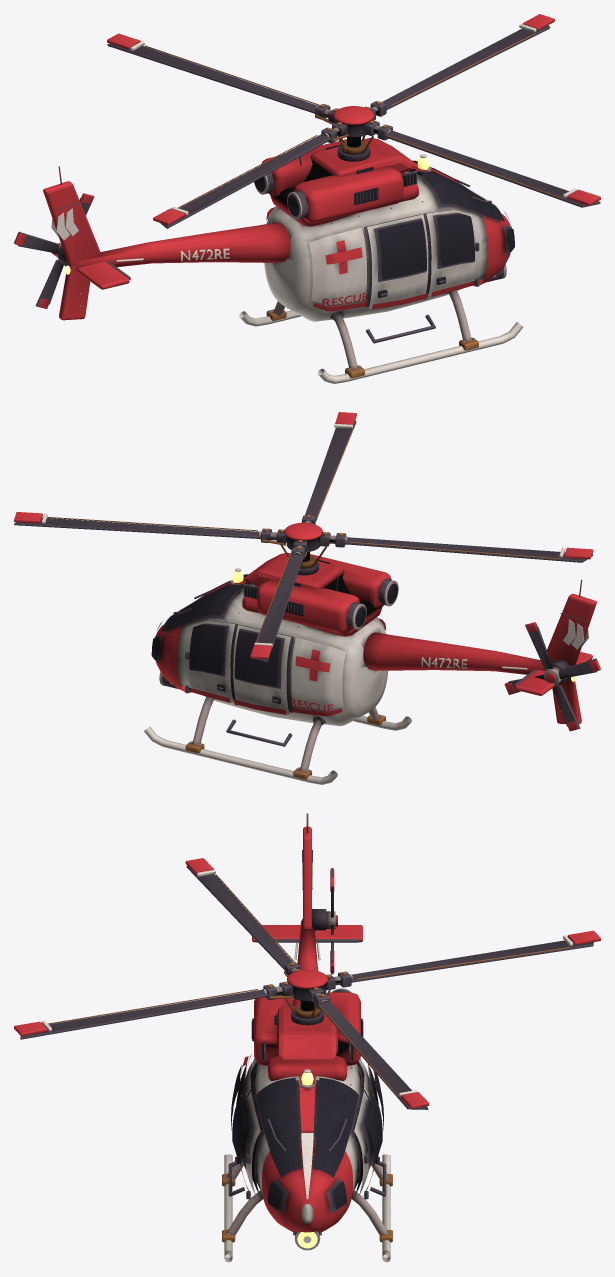
The picture shows the model from 3 angles, top to bottom: view 1: azimuth 30°, elevation 25°; view 2: azimuth 150°, elevation 25°; view 3: azimuth 270°, elevation 25°; orthographic projection. The views are drawn at different scales.
Visible parts, largest first — view 1: body_pal_survivorRed, body_pal_picketWhite, mainRotor_pal_asphalt, body_pal_asphalt, doorRescueR_pal_uiDark, body_pal_uiDark, mainRotor_pal_survivorRed, doorRescueR_pal_picketWhite, doorR_pal_uiDark, body_pal_sidewalk, doorR_pal_picketWhite, mainRotor_pal_woodWarm (+4 smaller); view 2: body_pal_survivorRed, body_pal_picketWhite, mainRotor_pal_asphalt, body_pal_asphalt, body_pal_uiDark, doorRescueL_pal_uiDark, mainRotor_pal_survivorRed, doorRescueL_pal_picketWhite, doorL_pal_uiDark, tailRotor_pal_asphalt, body_pal_sidewalk, doorL_pal_picketWhite (+2 smaller); view 3: body_pal_survivorRed, mainRotor_pal_asphalt, body_pal_uiDark, body_pal_picketWhite, body_pal_asphalt, mainRotor_pal_survivorRed, body_pal_sidewalk, mainRotor_pal_woodWarm, body_pal_woodWarm, doorL_pal_uiDark, doorR_pal_uiDark.
Boxes of the visible parts, x1,y1,x2,y2 form: body_pal_survivorRed: (43,138,510,320); body_pal_picketWhite: (51,169,523,383); mainRotor_pal_asphalt: (107,25,600,228); body_pal_asphalt: (54,145,511,343); doorRescueR_pal_uiDark: (378,220,426,297); body_pal_uiDark: (254,144,514,252); mainRotor_pal_survivorRed: (107,14,600,225); doorRescueR_pal_picketWhite: (367,214,428,308); doorR_pal_uiDark: (436,214,474,284); body_pal_sidewalk: (80,136,475,370); doorR_pal_picketWhite: (426,210,475,296); mainRotor_pal_woodWarm: (145,33,562,208); body_pal_survivorRed: (155,552,596,724); body_pal_picketWhite: (144,582,588,784); mainRotor_pal_asphalt: (14,420,592,662); body_pal_asphalt: (154,560,585,746); body_pal_uiDark: (151,559,397,660); doorRescueL_pal_uiDark: (234,630,280,703); mainRotor_pal_survivorRed: (14,412,593,659); doorRescueL_pal_picketWhite: (233,625,290,714); doorL_pal_uiDark: (189,625,225,691); tailRotor_pal_asphalt: (508,624,597,729); body_pal_sidewalk: (189,551,561,771); doorL_pal_picketWhite: (189,621,235,702); body_pal_survivorRed: (240,826,374,1232); mainRotor_pal_asphalt: (20,865,593,1109); body_pal_uiDark: (252,1014,362,1209); body_pal_picketWhite: (224,862,390,1262); body_pal_asphalt: (228,850,386,1213); mainRotor_pal_survivorRed: (14,858,600,1108); body_pal_sidewalk: (226,988,388,1235); mainRotor_pal_woodWarm: (48,874,570,1097); body_pal_woodWarm: (222,813,392,1242); doorL_pal_uiDark: (366,1094,382,1165); doorR_pal_uiDark: (232,1094,248,1165).
Size of the model in its own units: 11.09 by 4.51 by 9.66.
